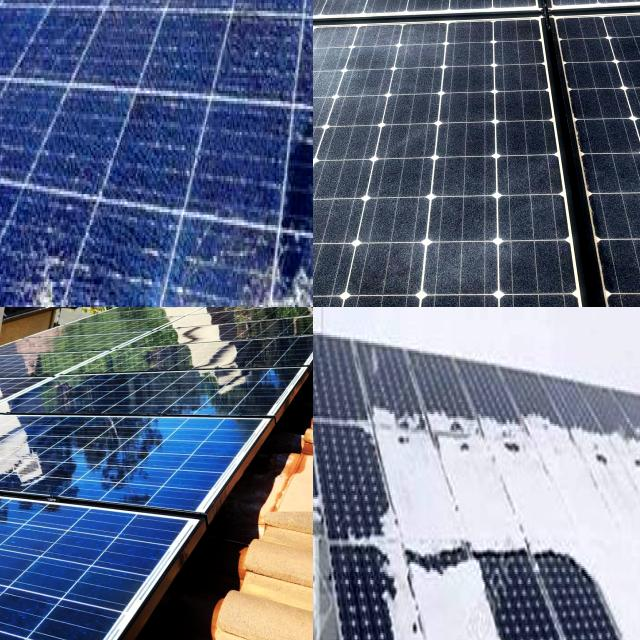crack: (0, 418, 232, 513), (14, 364, 292, 418), (64, 346, 310, 380), (0, 406, 99, 476), (59, 558, 148, 622), (0, 377, 104, 415), (14, 550, 80, 606), (0, 577, 58, 640), (0, 348, 95, 383), (0, 558, 48, 618), (0, 540, 45, 594), (0, 572, 39, 626)
hotspot: (13, 236, 85, 307)
panel: (471, 406, 627, 553), (356, 416, 463, 550), (379, 558, 513, 640)
